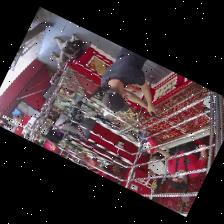person: (102, 48, 158, 112), (168, 150, 207, 173), (22, 22, 53, 43), (94, 164, 113, 178)
